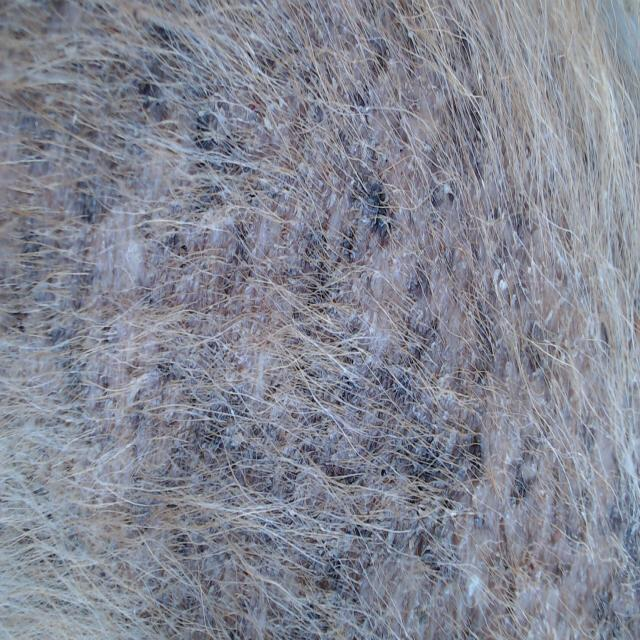demodicosis: (119, 82, 531, 560)
